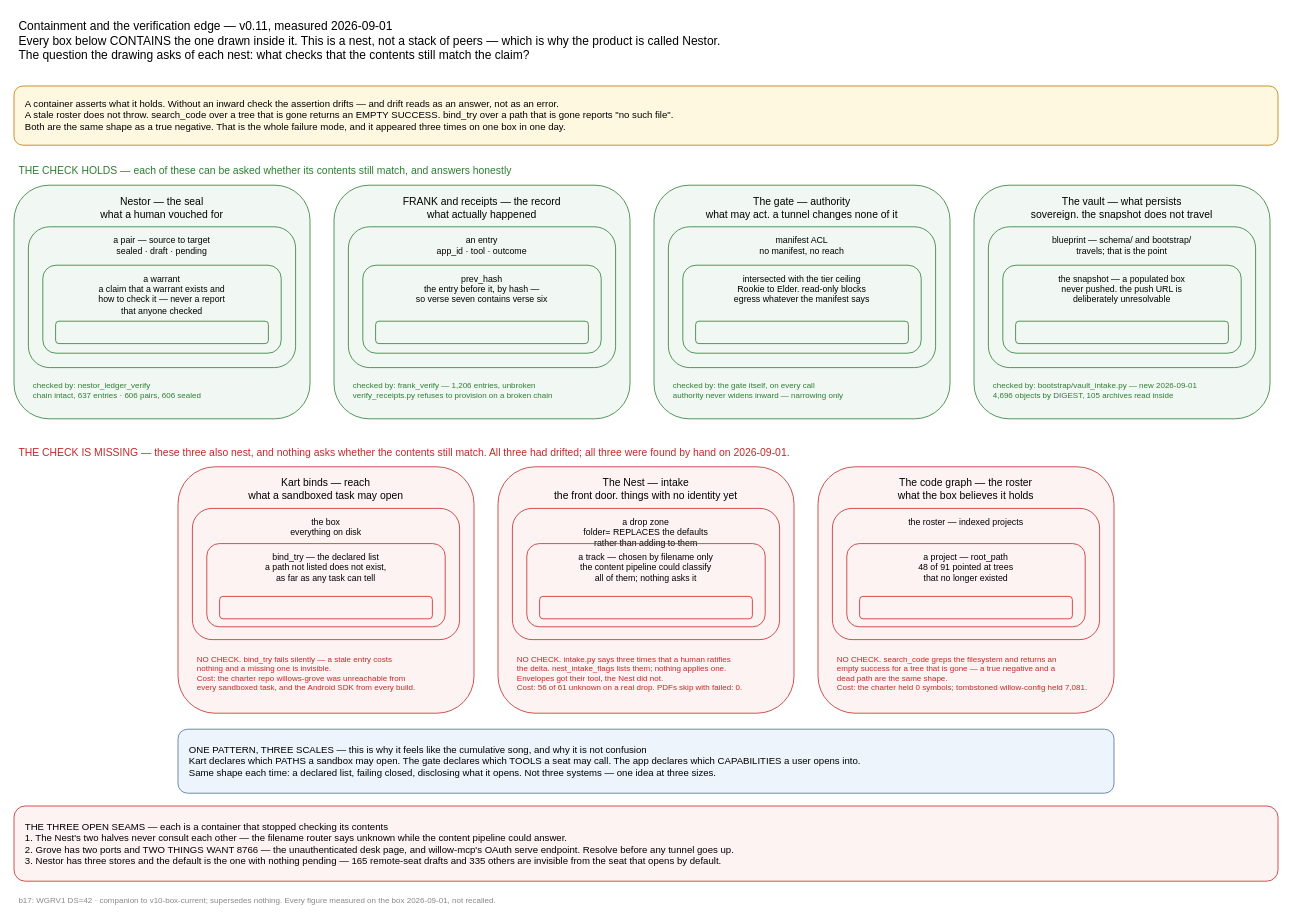
This 1292x920 diagram has some shape labels left out. The shapes that lost their labels are listed below. From the top down, each one's centre as x and y in pixels, then its label:
(x=161, y=332): evidence — origin repo@commit
(x=481, y=332): and every entry before that
(x=801, y=332): own-line capability — outside every group
(x=1121, y=332): a live box — never committed at all
(x=325, y=607): the task — sees only what was bound
(x=645, y=607): a destination — hard-coded
(x=965, y=607): a symbol — greppable, if the tree is there
